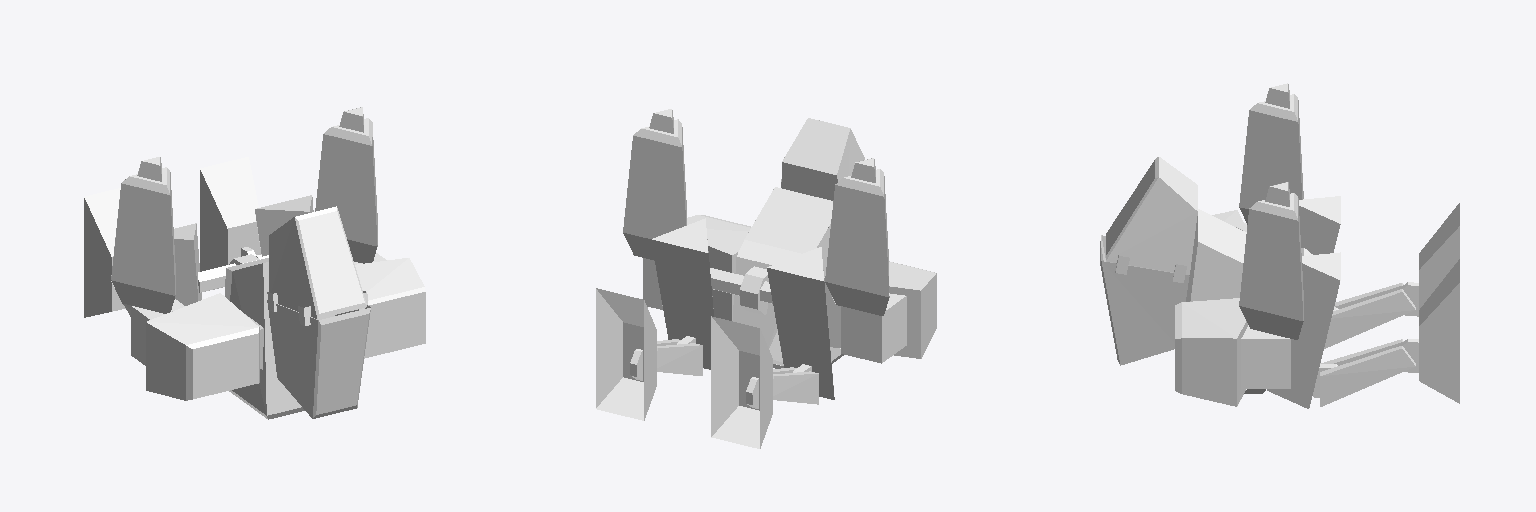
3 views of the same model, side by side, from view 1: azimuth 30°, elevation 25°; view 2: azimuth 150°, elevation 25°; view 3: azimuth 270°, elevation 25° (orthographic).
Parts seen in each view (by area): view 1: body, rightLeg, leftLeg; view 2: body, rightLeg, leftLeg; view 3: body, rightLeg, leftLeg.
Boxes of the visible parts, x1,y1,x2,y2 form: body: [111, 107, 425, 419]; rightLeg: [200, 157, 313, 271]; leftLeg: [84, 188, 235, 317]; body: [623, 109, 936, 368]; rightLeg: [596, 218, 743, 420]; leftLeg: [711, 247, 834, 448]; body: [1100, 83, 1303, 406]; rightLeg: [1267, 252, 1459, 408]; leftLeg: [1299, 196, 1459, 348].
Bounding box in the file's own units: 0.672 × 0.5726 × 0.784.